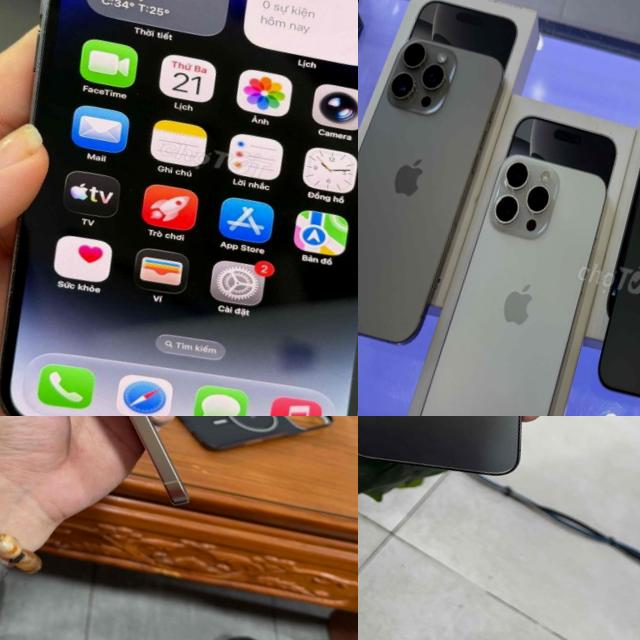gen_12_13: (358, 416, 585, 499)
gen_14: (0, 0, 358, 416)
gen_16: (408, 141, 611, 416), (128, 416, 188, 505)
